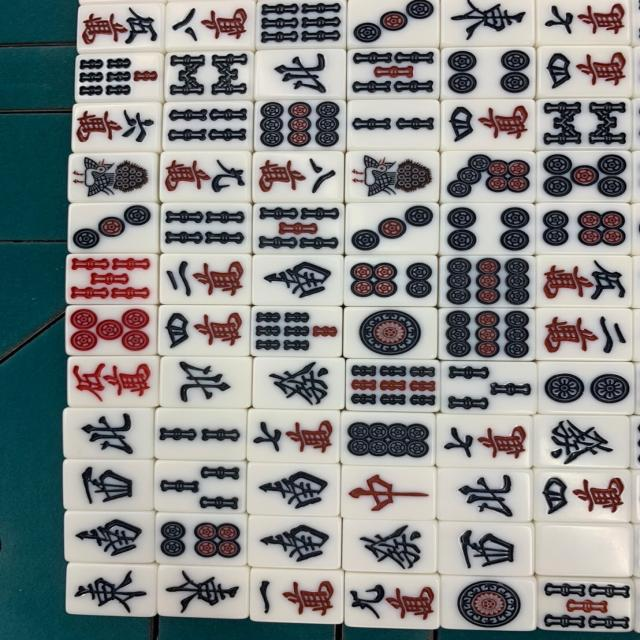bamboos_1: (347, 150, 435, 202), (69, 151, 157, 202)
bamboos_2: (156, 408, 244, 459), (348, 100, 437, 150)
bamboos_3: (438, 360, 534, 412), (157, 461, 246, 512)
bamboos_4: (163, 100, 252, 152), (161, 200, 250, 251)
bamboos_5: (538, 578, 634, 630), (68, 253, 157, 305), (254, 203, 343, 255), (348, 49, 438, 100)
bamboos_7: (74, 51, 164, 102), (251, 306, 340, 356)
bamboos_8: (537, 98, 632, 150), (161, 50, 250, 101)
bamboos_9: (349, 360, 438, 410)
characters_1: (251, 569, 340, 620)
characters_2: (534, 308, 630, 360), (160, 253, 249, 304)
characters_4: (532, 469, 628, 521), (537, 46, 632, 98), (443, 98, 532, 149), (160, 305, 248, 356)
characters_5: (535, 255, 630, 307), (76, 0, 165, 52), (68, 356, 157, 408)
characters_6: (72, 100, 160, 151)
characters_7: (435, 413, 531, 465), (249, 410, 337, 461)
characters_8: (166, 0, 255, 51), (254, 151, 342, 202)
characters_9: (160, 151, 250, 203), (345, 574, 434, 626)
circles_1: (439, 576, 534, 628), (347, 307, 436, 358)
circles_2: (537, 362, 632, 414)
circles_3: (68, 202, 158, 253), (348, 203, 438, 254)
circles_4: (441, 202, 536, 254), (445, 47, 534, 98)
circles_5: (537, 150, 631, 202), (67, 304, 155, 355)
circles_6: (536, 202, 630, 255), (346, 255, 434, 307), (156, 513, 244, 564)
circles_7: (441, 150, 536, 202)
circles_8: (343, 412, 432, 464)
circles_9: (439, 255, 535, 307), (439, 308, 534, 360), (256, 100, 344, 151)
east: (66, 563, 155, 615), (158, 566, 246, 617)
green: (531, 415, 627, 467), (253, 357, 341, 409), (345, 520, 433, 571)
north: (435, 468, 530, 520), (66, 408, 155, 459), (161, 357, 250, 408), (258, 49, 346, 100)
red: (343, 467, 432, 518)
south: (66, 513, 156, 565), (254, 253, 344, 305), (251, 515, 339, 567), (249, 464, 337, 514)
west: (435, 521, 531, 573), (65, 461, 154, 512)
white: (534, 522, 629, 574)
